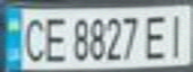2: (103, 12, 124, 62)
7: (121, 12, 145, 61)
8: (66, 14, 90, 62), (87, 14, 109, 62)
C: (18, 12, 48, 64)
E: (142, 11, 172, 61), (39, 14, 69, 63)
I: (163, 9, 193, 60)
